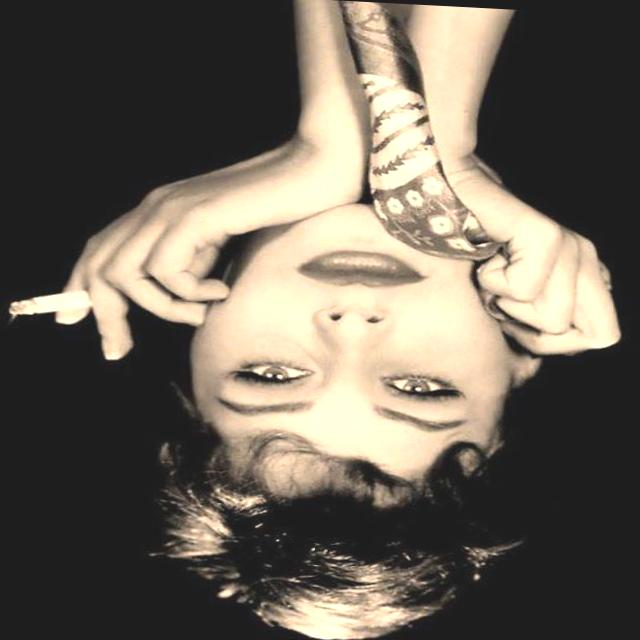smoke: (4, 273, 131, 341)
